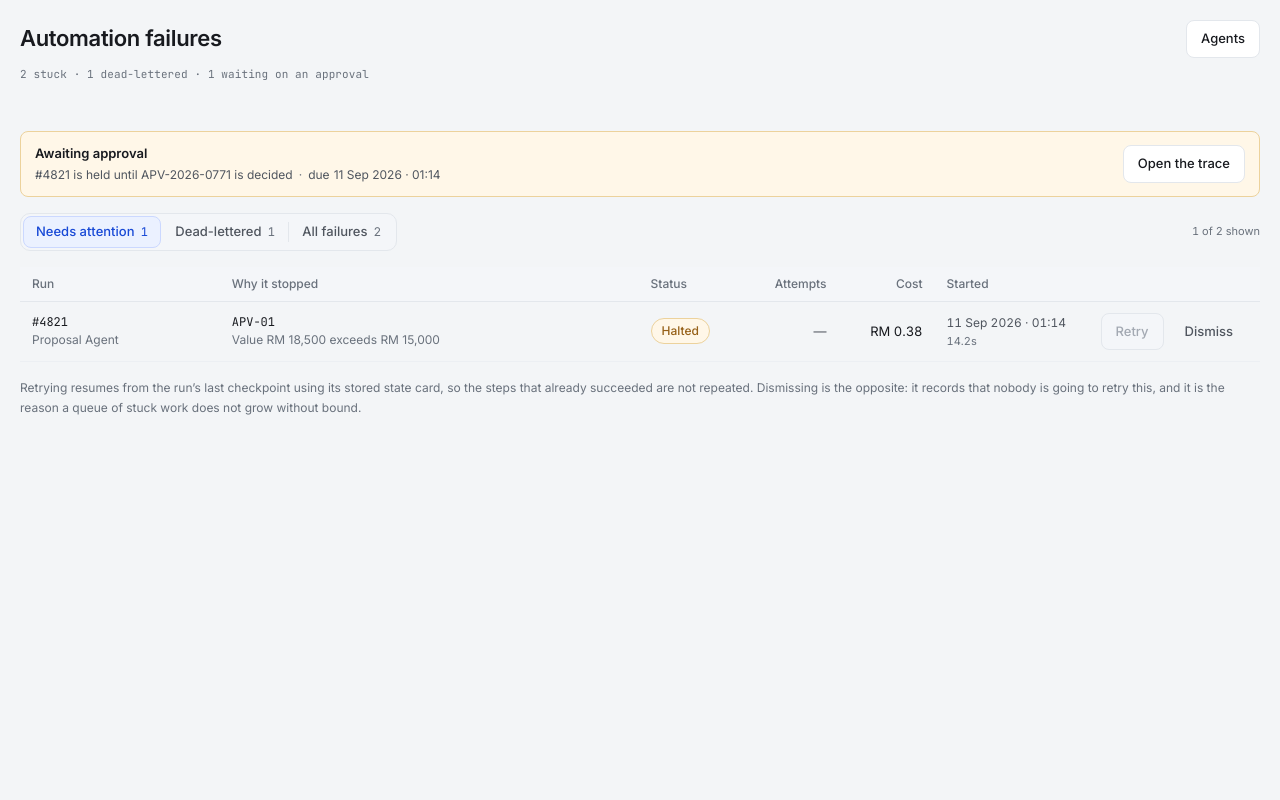
/automation/failures · M18-S07 › asks before giving up on a run, and says what giving up costs
Click the button "Dismiss" at (1209, 331), box [1170,312,1248,350]
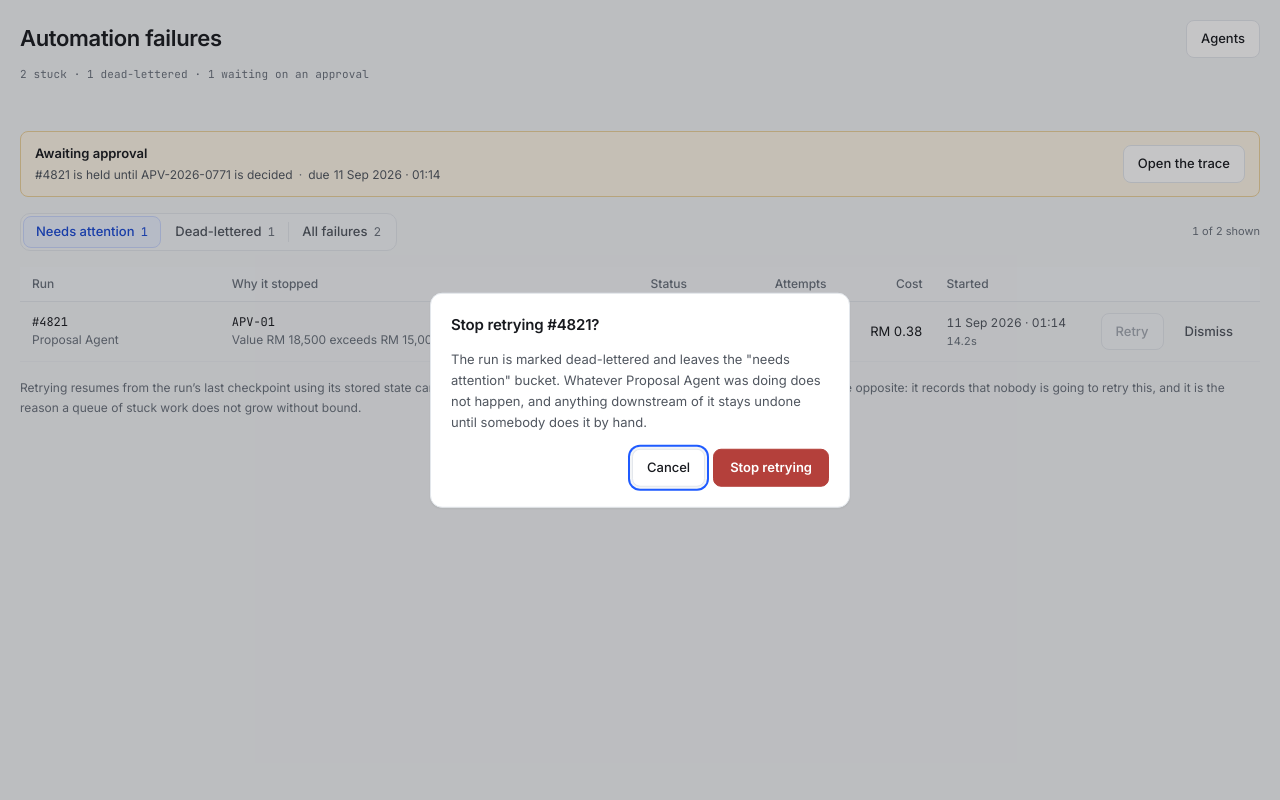
Expected: the heading "Stop retrying #4821?" is shown, [451,315,599,334]
Expected: the text "stays undone until somebody does it by hand" is shown, [451,350,821,430]
